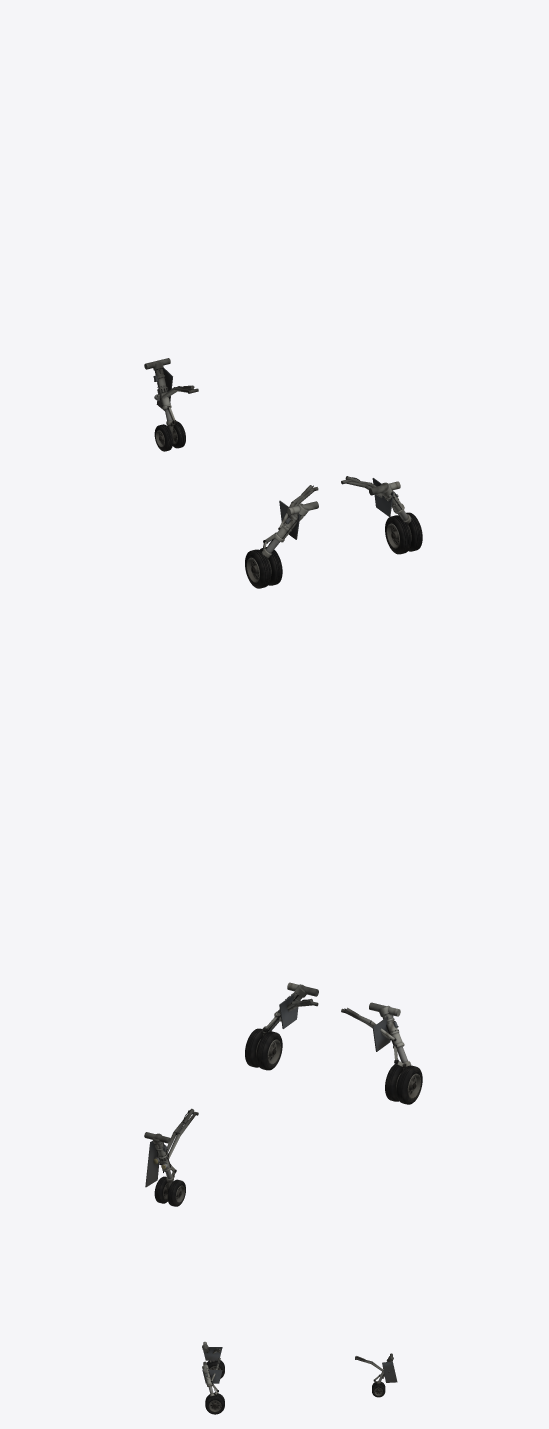
The model's file is mirage_f1_gear.glb.
The picture shows the model from 3 angles, top to bottom: view 1: azimuth 30°, elevation 25°; view 2: azimuth 150°, elevation 25°; view 3: azimuth 270°, elevation 25°; orthographic projection. The views are drawn at different scales.
Visible parts, largest first — view 1: gear_n, gear_w_r, gear_w_l, gear_m_l, gear_m_r; view 2: gear_n, gear_w_r, gear_w_l, gear_m_l, gear_m_r; view 3: gear_n, gear_m_r, gear_w_r, gear_m_l.
Part boxes in pixels (x1,y1,x2,y2): gear_n: [144, 358, 185, 451]; gear_w_r: [385, 512, 422, 554]; gear_w_l: [245, 546, 282, 588]; gear_m_l: [251, 500, 318, 572]; gear_m_r: [369, 478, 411, 538]; gear_n: [144, 1132, 185, 1206]; gear_w_r: [245, 1028, 282, 1070]; gear_w_l: [385, 1064, 422, 1104]; gear_m_l: [369, 1002, 416, 1088]; gear_m_r: [261, 982, 318, 1054]; gear_n: [372, 1353, 397, 1397]; gear_m_r: [202, 1361, 222, 1407]; gear_w_r: [205, 1392, 224, 1414]; gear_m_l: [202, 1341, 222, 1362].
Size of the model in its own units: 2.79 by 5.24 by 15.46.
Materials: 1 (1 with a texture image).
